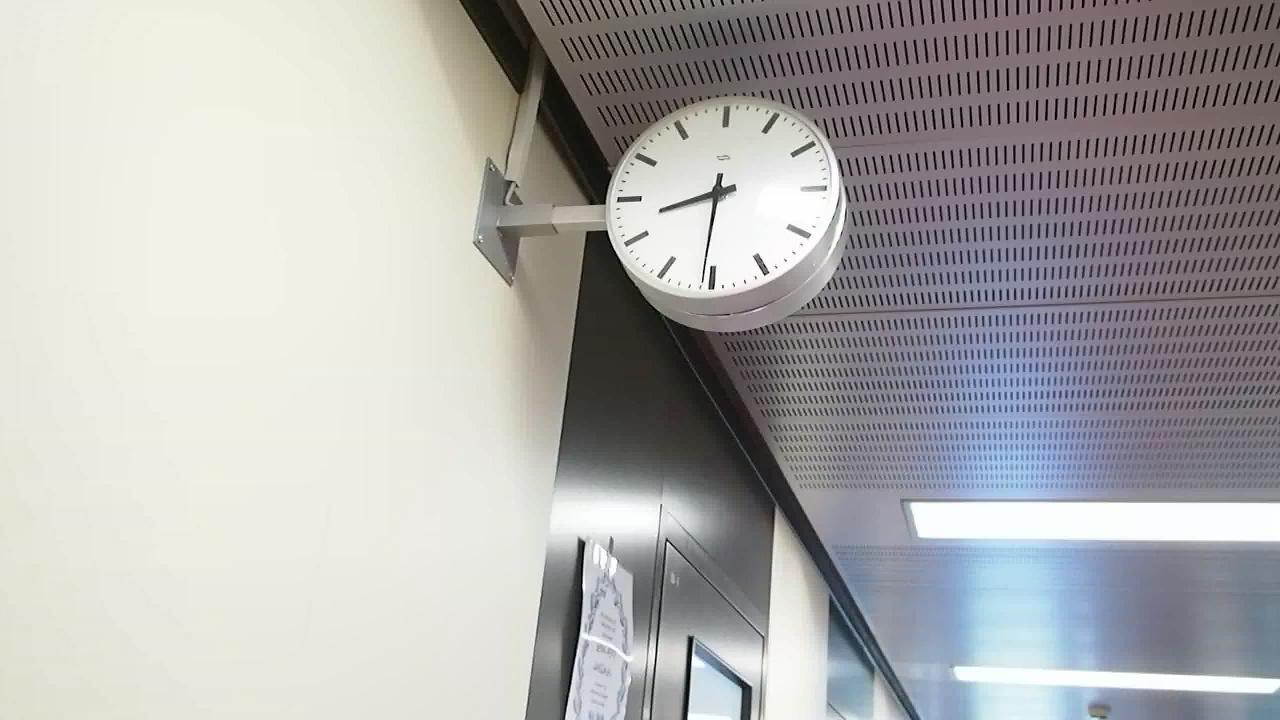clock: (600, 80, 851, 325)
